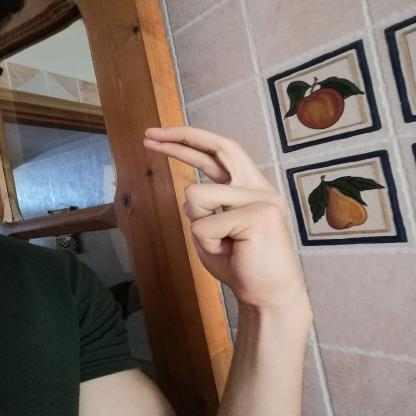ZAY: (131, 118, 318, 315)
